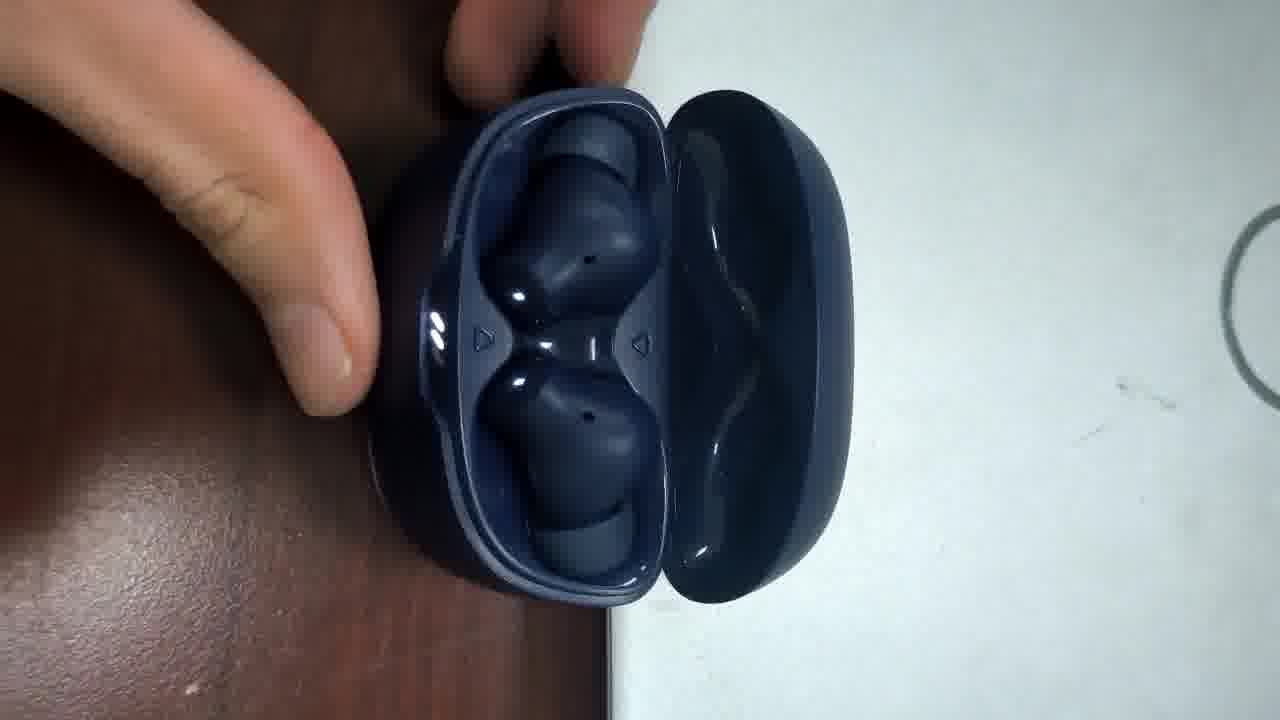Case: (368, 87, 852, 606)
Earbud: (481, 356, 659, 578), (486, 112, 656, 326)
